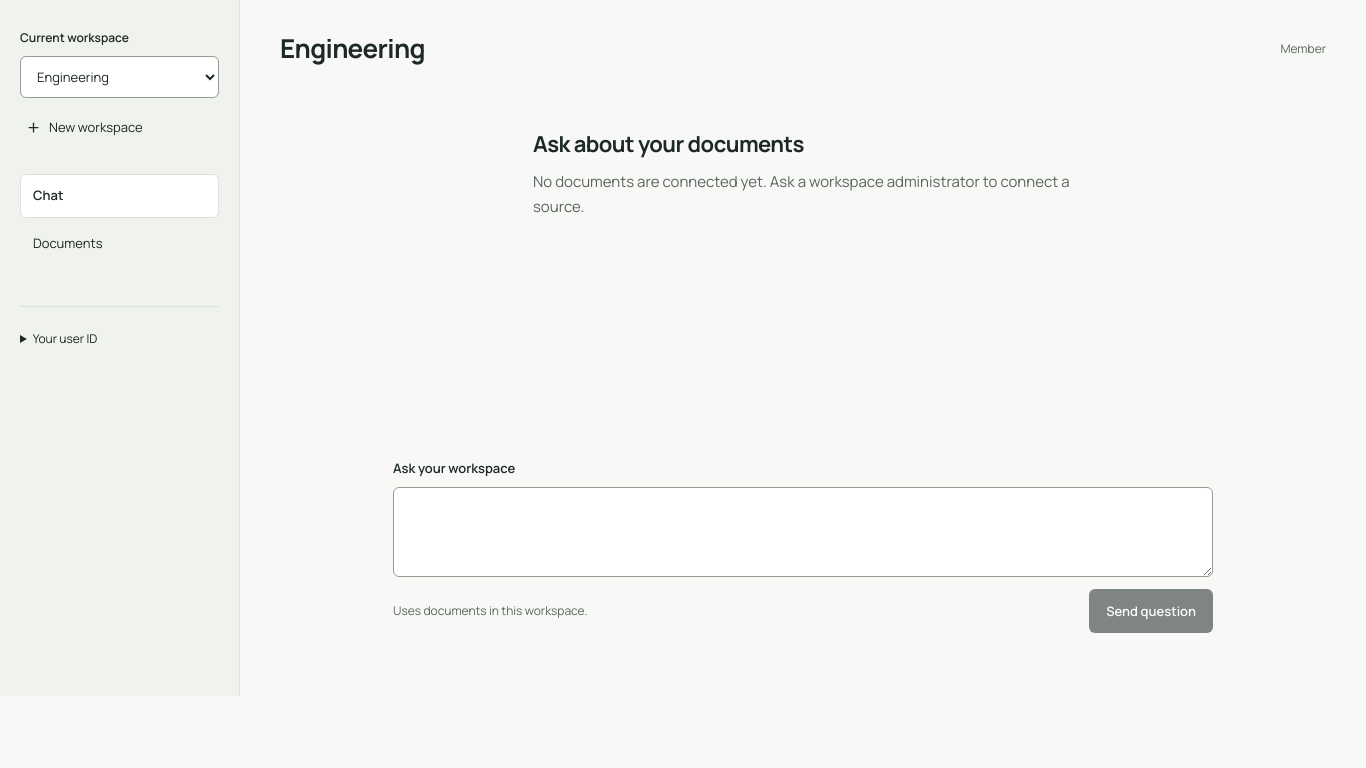
Test: keeps the conversation when opening another section of the same workspace
Expected: the heading "Engineering" is shown, x1=280 y1=32 x2=425 y2=66
In the text box labelled "Ask your workspace": (803, 532) x1=393 y1=487 x2=1213 y2=577, type "Question"
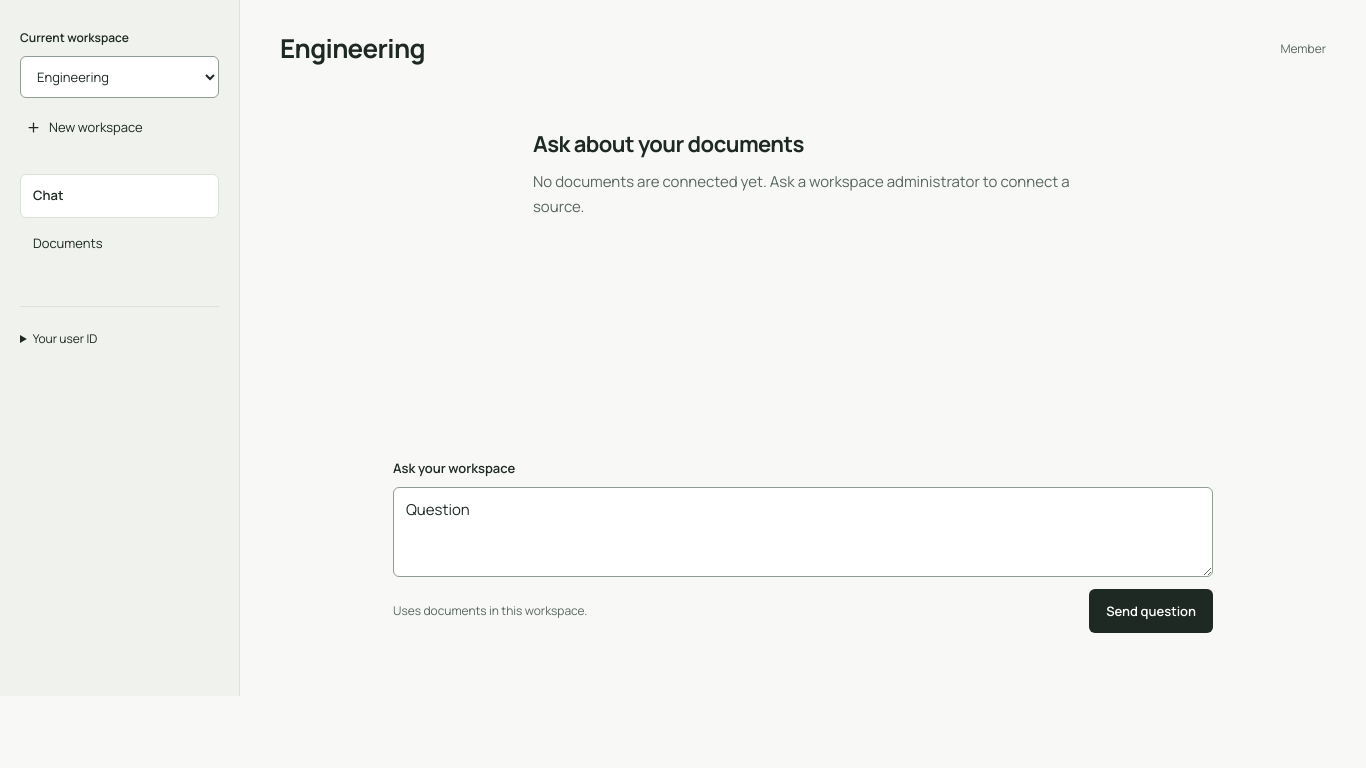
Click the button "Send question": (1151, 611) x1=1089 y1=589 x2=1213 y2=633
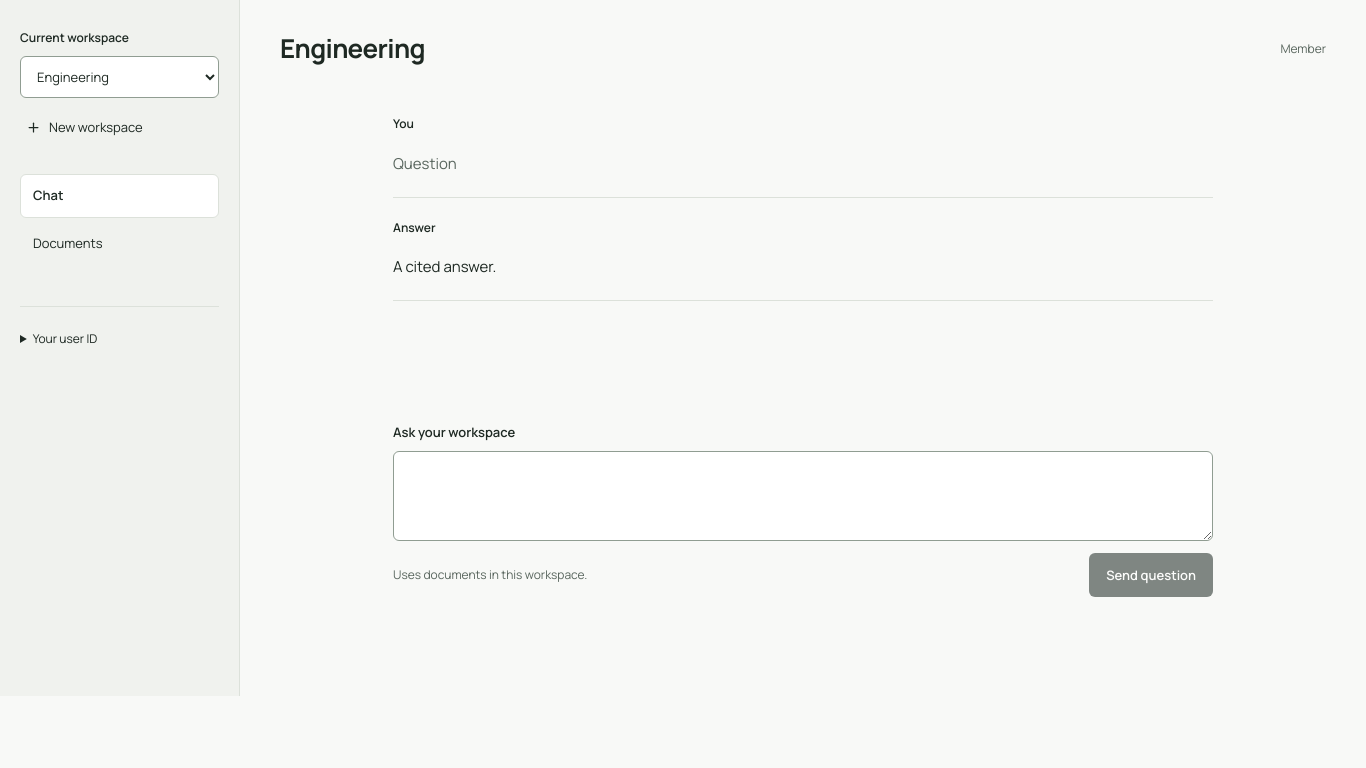
Now the text "A cited answer." is shown, box x1=393 y1=256 x2=496 y2=277
Click the button "Documents": (120, 244) x1=20 y1=222 x2=219 y2=266
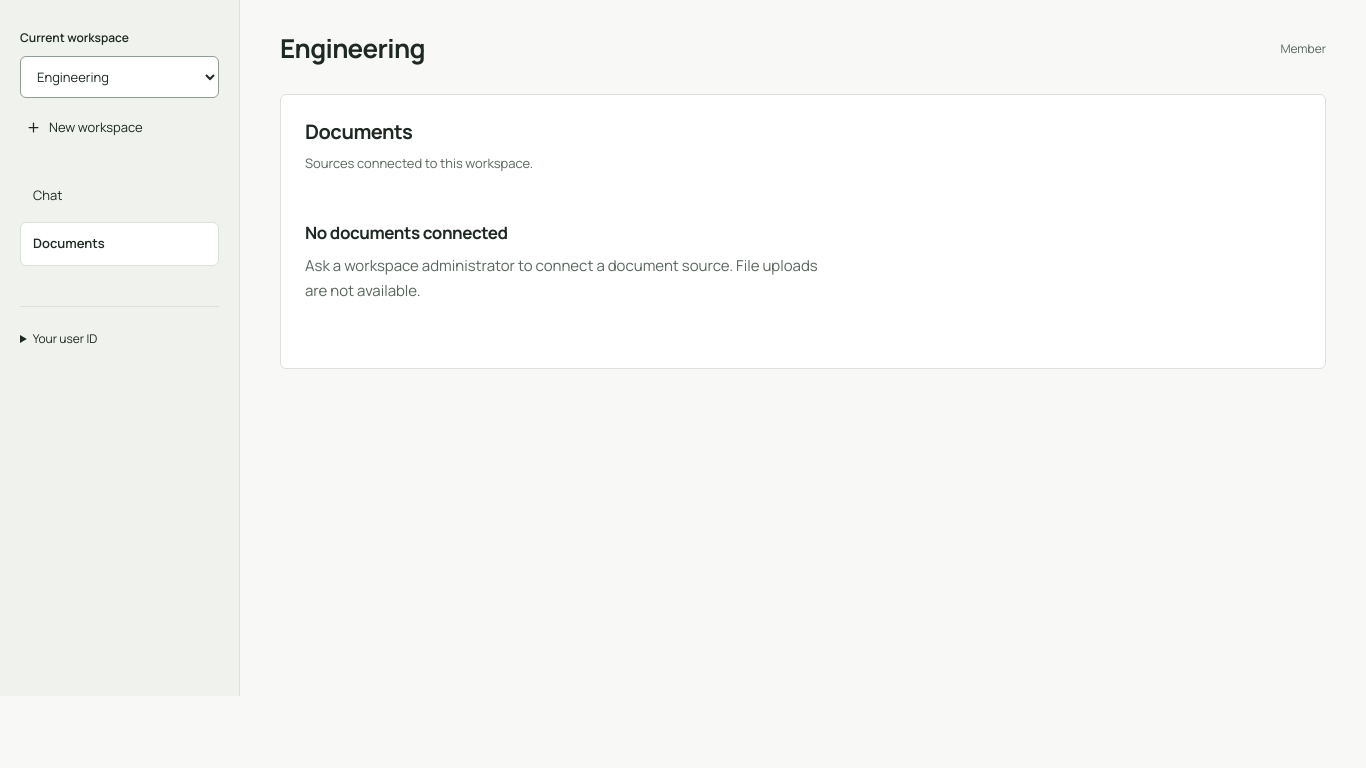
Now the heading "Documents" is shown, box x1=305 y1=118 x2=412 y2=145
Click the button "Chat": (120, 196) x1=20 y1=174 x2=219 y2=218
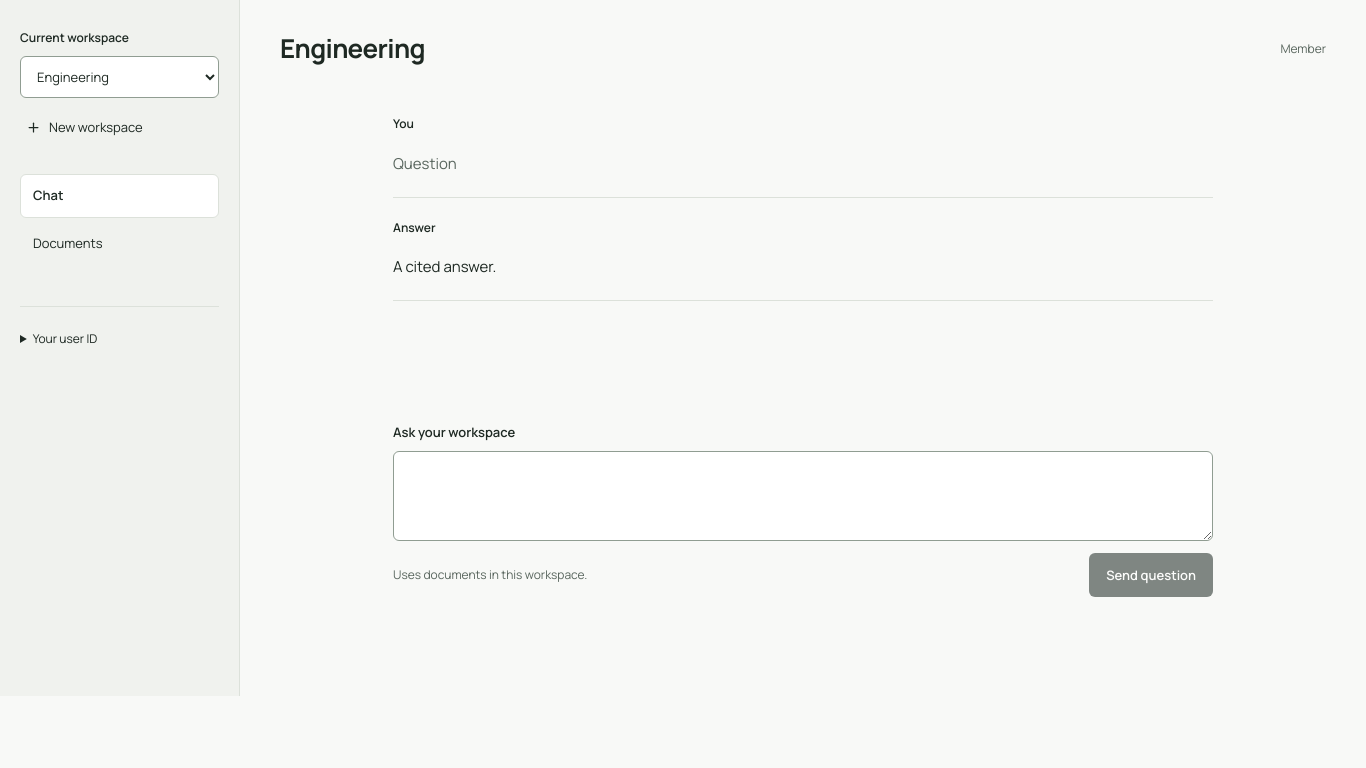
Now the text "A cited answer." is shown, box x1=393 y1=256 x2=496 y2=277
